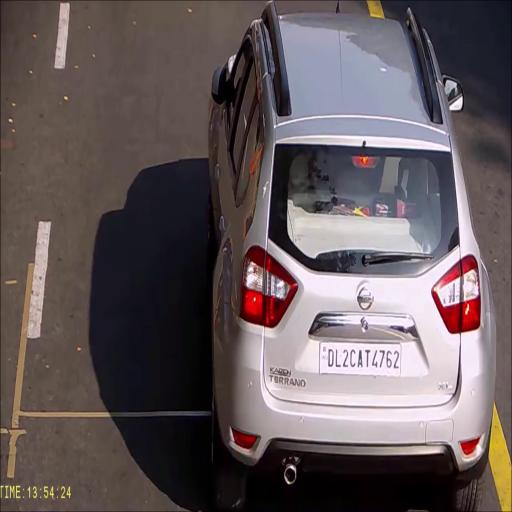License plate: (319, 342, 402, 376)
Vehicle: (208, 0, 499, 512)
